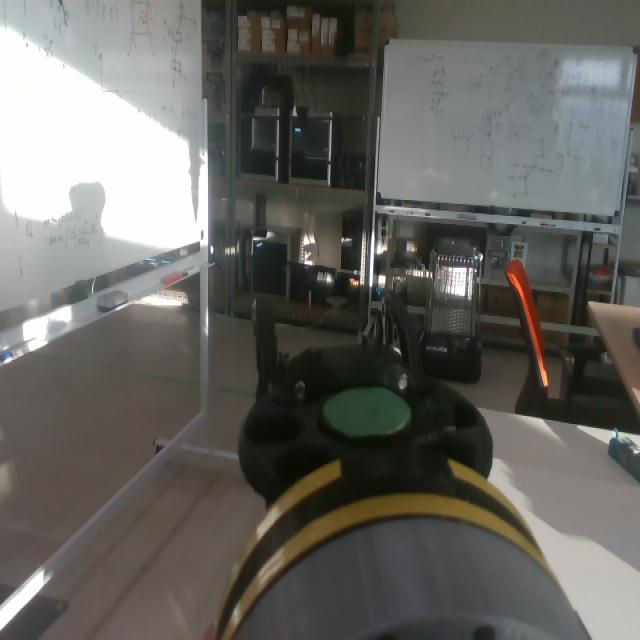body_connector: (234, 516, 593, 640)
connection: (212, 447, 594, 640)
leg: (214, 287, 551, 640)
leg_connector: (214, 447, 555, 640)
marker: (321, 385, 412, 439)
